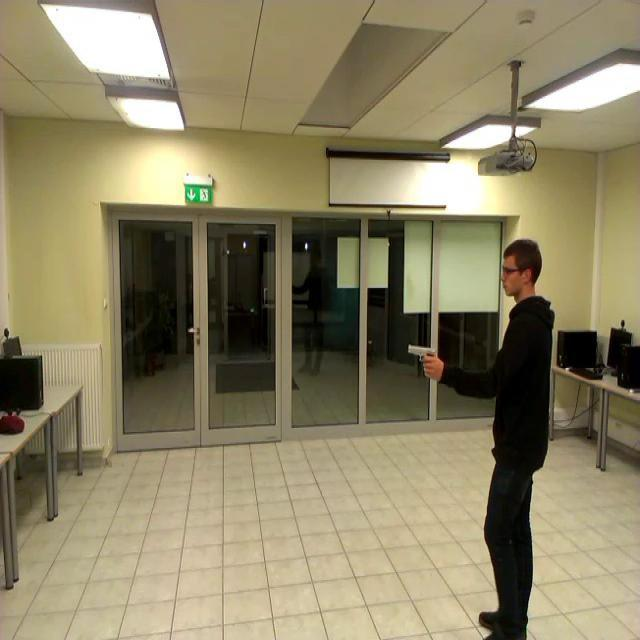weapon: (404, 342, 439, 380)
